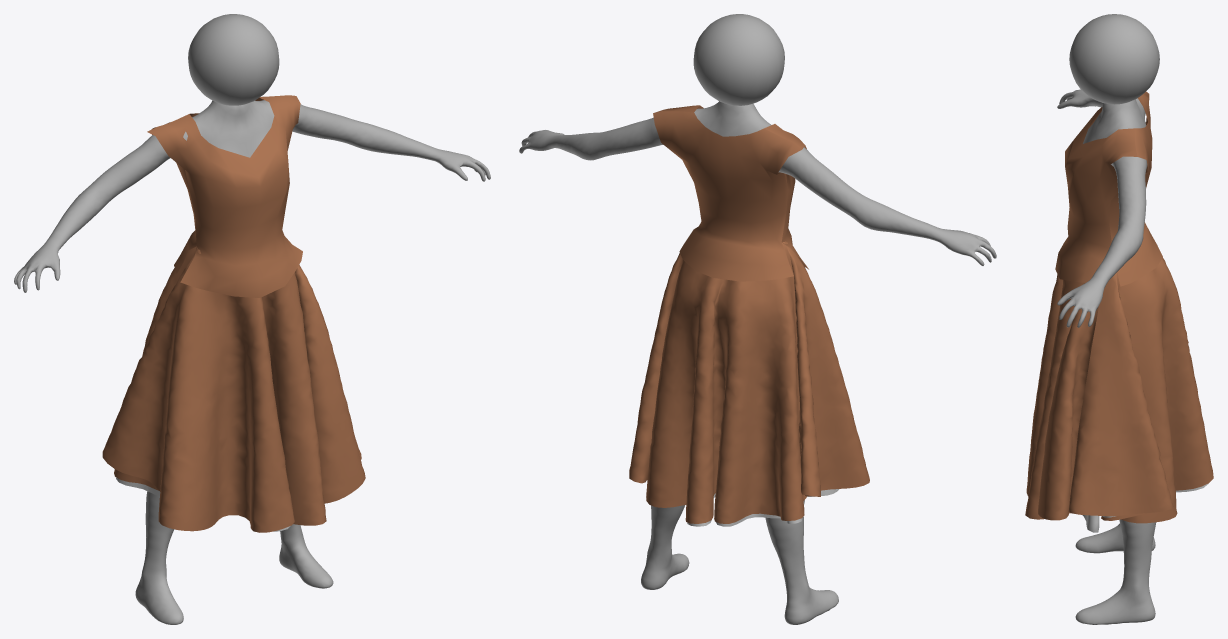
File: physic_test_1.fbx
3 views of the same model, side by side, from view 1: azimuth 30°, elevation 25°; view 2: azimuth 150°, elevation 25°; view 3: azimuth 270°, elevation 25° (orthographic).
Parts seen in each view (by area): view 1: Pattern2D_654403, Obj_Avatar_Shape1, polySurface5; view 2: Pattern2D_654403, Obj_Avatar_Shape1, polySurface5; view 3: Pattern2D_654403, Obj_Avatar_Shape1, polySurface5, Pattern2D_654406.
Part boxes in pixels (bbox=[...]): Pattern2D_654403: bbox=[102, 246, 365, 532]; Obj_Avatar_Shape1: bbox=[14, 14, 490, 624]; polySurface5: bbox=[147, 95, 302, 297]; Pattern2D_654403: bbox=[629, 241, 869, 523]; Obj_Avatar_Shape1: bbox=[519, 14, 996, 624]; polySurface5: bbox=[653, 105, 808, 281]; Pattern2D_654403: bbox=[1025, 258, 1213, 523]; Obj_Avatar_Shape1: bbox=[1057, 14, 1159, 624]; polySurface5: bbox=[1055, 91, 1162, 286]; Pattern2D_654406: bbox=[1082, 483, 1208, 532].
Bounding box in the file's own units: 12.06 × 14.12 × 4.27.
